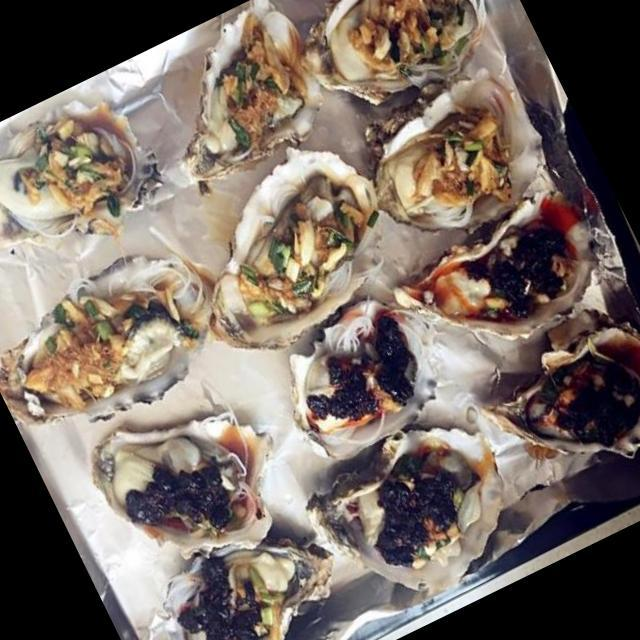Oyster-Open: (154, 115, 420, 372), (285, 396, 543, 634), (0, 228, 249, 458), (69, 372, 310, 604), (379, 166, 630, 384), (336, 49, 570, 264), (248, 278, 474, 475), (127, 0, 343, 195), (460, 291, 640, 510), (0, 65, 175, 276), (263, 0, 519, 139), (143, 511, 361, 640)
